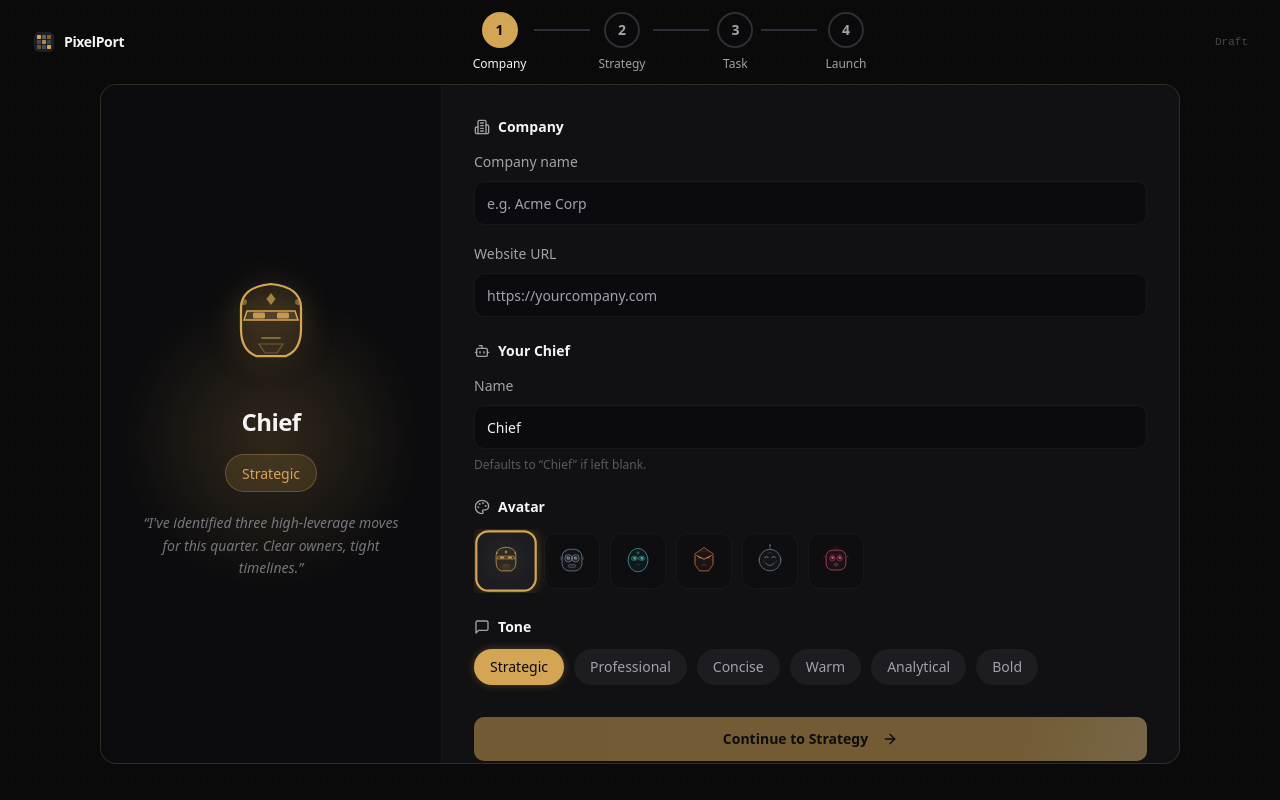
Test: Onboarding flow › creates draft tenant on company step and moves to strategy step
Step 1. Type "Acme Labs" into the field labelled "Company name" → {"x": 810, "y": 203}, box x1=474 y1=181 x2=1147 y2=225
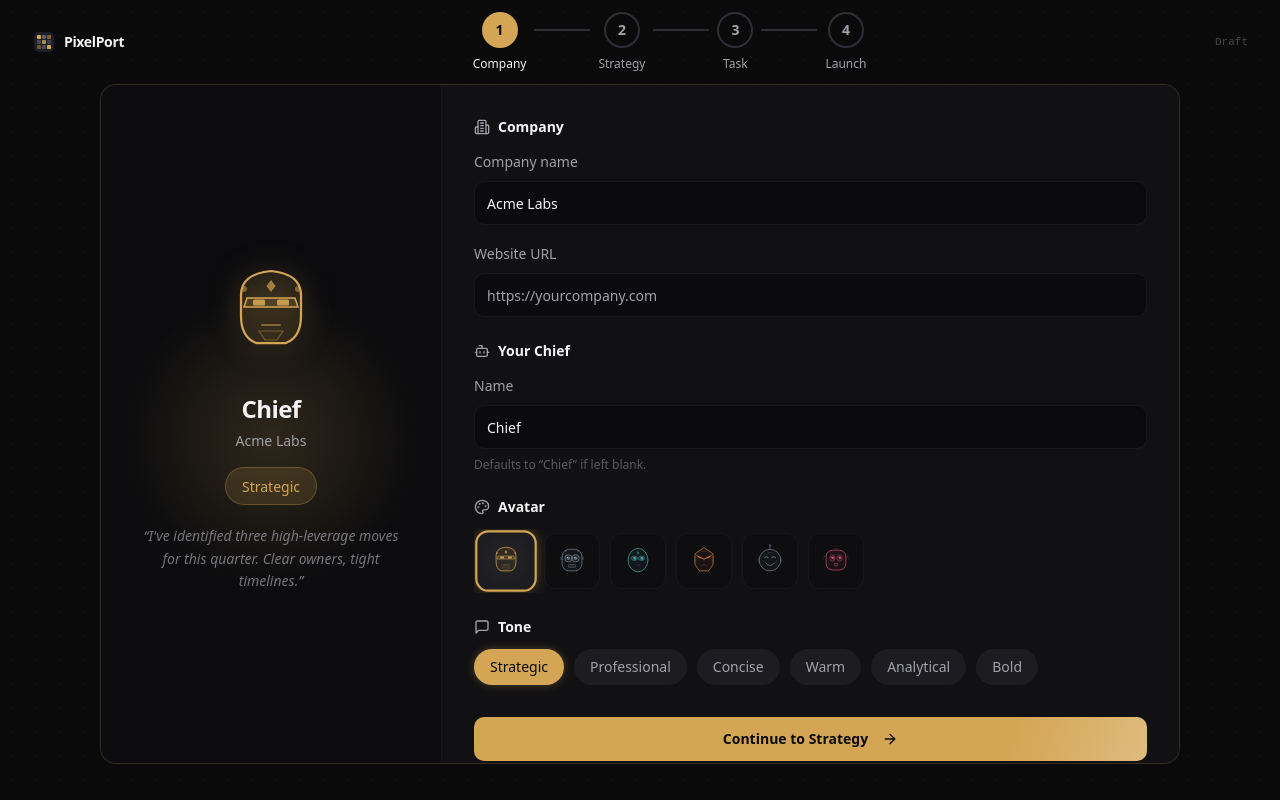
Step 2. Click the button "Continue to Strategy" → {"x": 810, "y": 739}, box x1=474 y1=717 x2=1147 y2=761
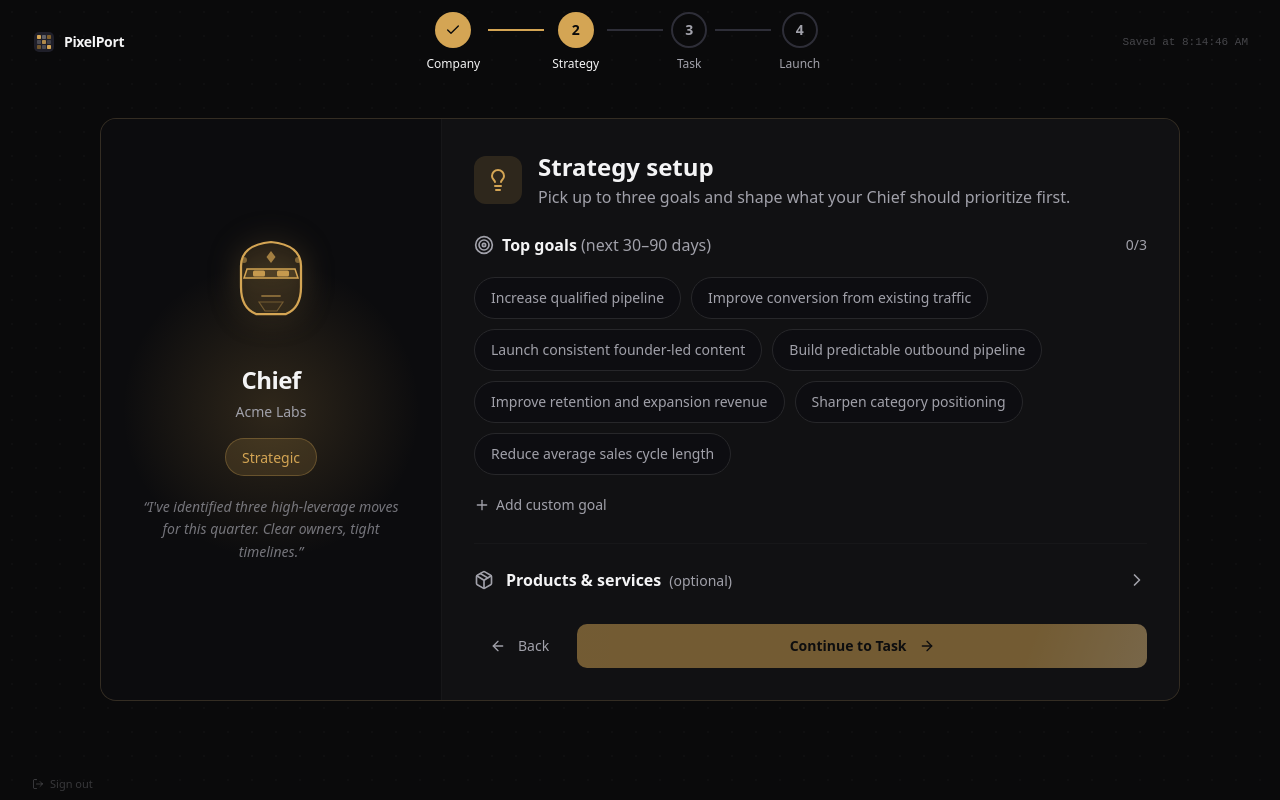
Expected: the heading "Chief" is shown, x1=242 y1=364 x2=300 y2=396
Result: the heading "Strategy setup" is shown at x1=538 y1=150 x2=714 y2=183
